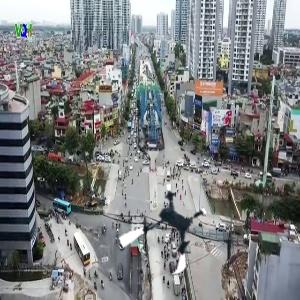drone: (119, 186, 212, 279)
